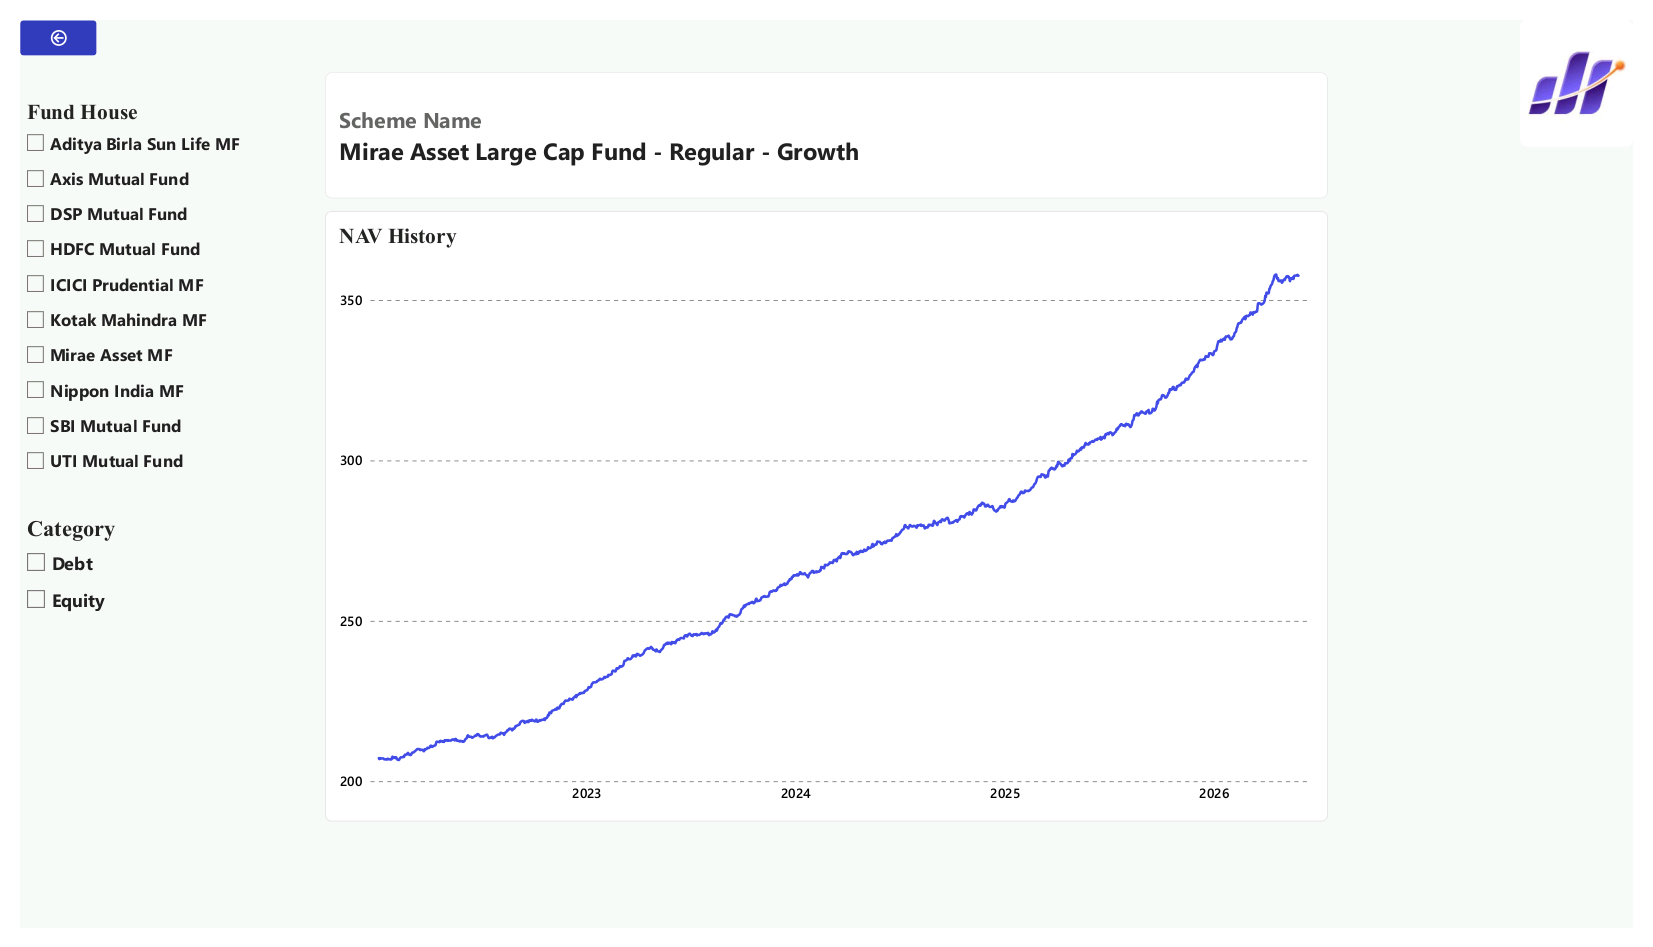

This screenshot's page, from the dashboard's own definition file:
{"tool":"powerbi","page":{"name":"NAV Detail Page","canvas":[1920,1080],"ordinal":4},"visuals":[{"type":"actionButton","box":[0,0,91.3,42.3],"z":0},{"type":"lineChart","title":"NAV History","fields":{"Category":["dim_date.date.Variation.Date Hierarchy.Year","dim_date.date.Variation.Date Hierarchy.Quarter","dim_date.date.Variation.Date Hierarchy.Month","dim_date.date.Variation.Date Hierarchy.Day"],"Y":["Avg(fact_nav.nav)"]},"box":[363.1,227.2,1194.2,726.3],"z":1000},{"type":"slicer","fields":{"Values":["dim_fund.fund_house"]},"box":[0,93.6,307.5,496.8],"z":2000},{"type":"slicer","fields":{"Values":["dim_fund.category"]},"box":[0,590.4,307.5,158.2],"z":3000},{"type":"cardVisual","title":"Scheme Name","fields":{"Data":["Min(fund_scorecard.scheme_name)"]},"box":[363.1,62.4,1194,150],"z":4000},{"type":"image","box":[1786,0,134,150],"z":5000}]}

Visuals, with their boxes in screenshot pixels (x1, y1, x2, y2), scaled from the page's 1920x1080 canvas onto the 1653x947 screenshot:
actionButton: {"left": 0, "top": 0, "right": 79, "bottom": 37}
"NAV History" lineChart: {"left": 313, "top": 199, "right": 1341, "bottom": 836}
slicer - dim_fund.fund_house: {"left": 0, "top": 82, "right": 265, "bottom": 518}
slicer - dim_fund.category: {"left": 0, "top": 518, "right": 265, "bottom": 656}
"Scheme Name" cardVisual: {"left": 313, "top": 55, "right": 1341, "bottom": 186}
image: {"left": 1538, "top": 0, "right": 1652, "bottom": 132}
